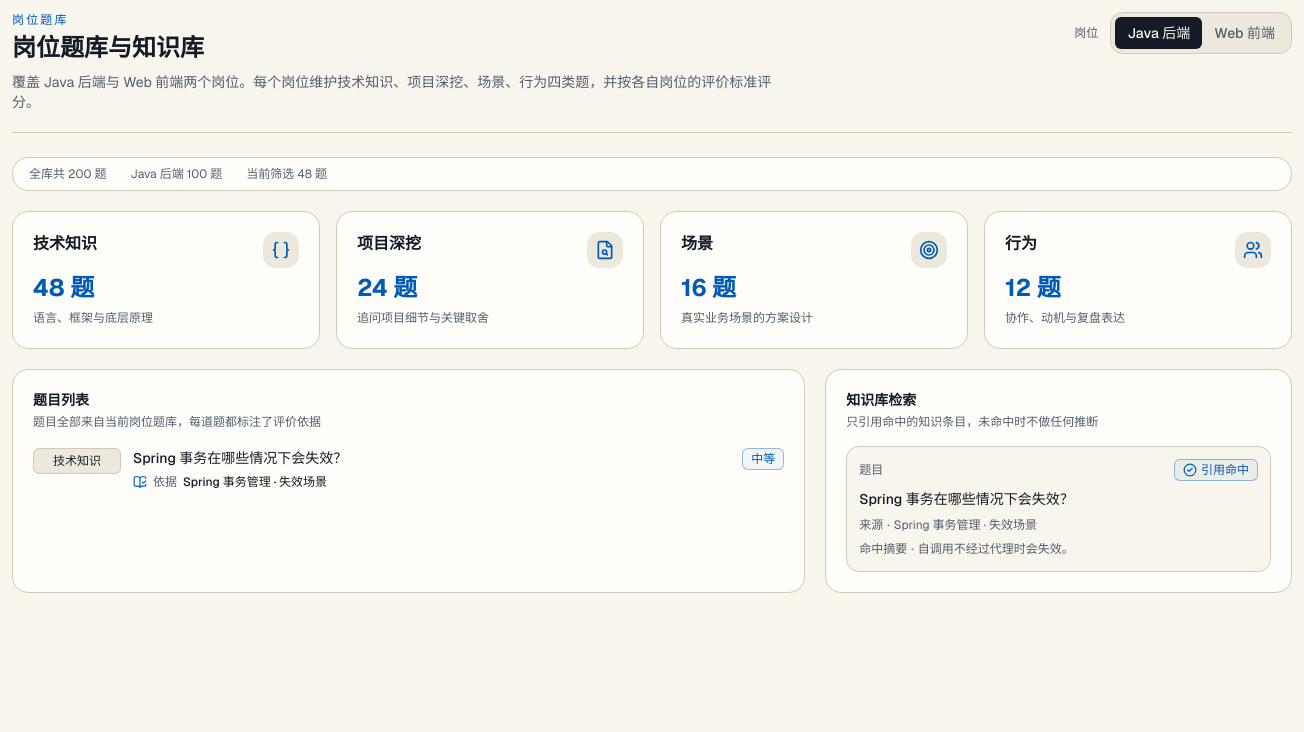
Test: BankScreen › 点题型卡片按 kind 重新请求并显示筛选提示
This screenshot has width=1304, height=732.
Click the button "技术知识 48 题 语言、框架与底层原理".
click(65, 244)  # box [12,211,320,349]
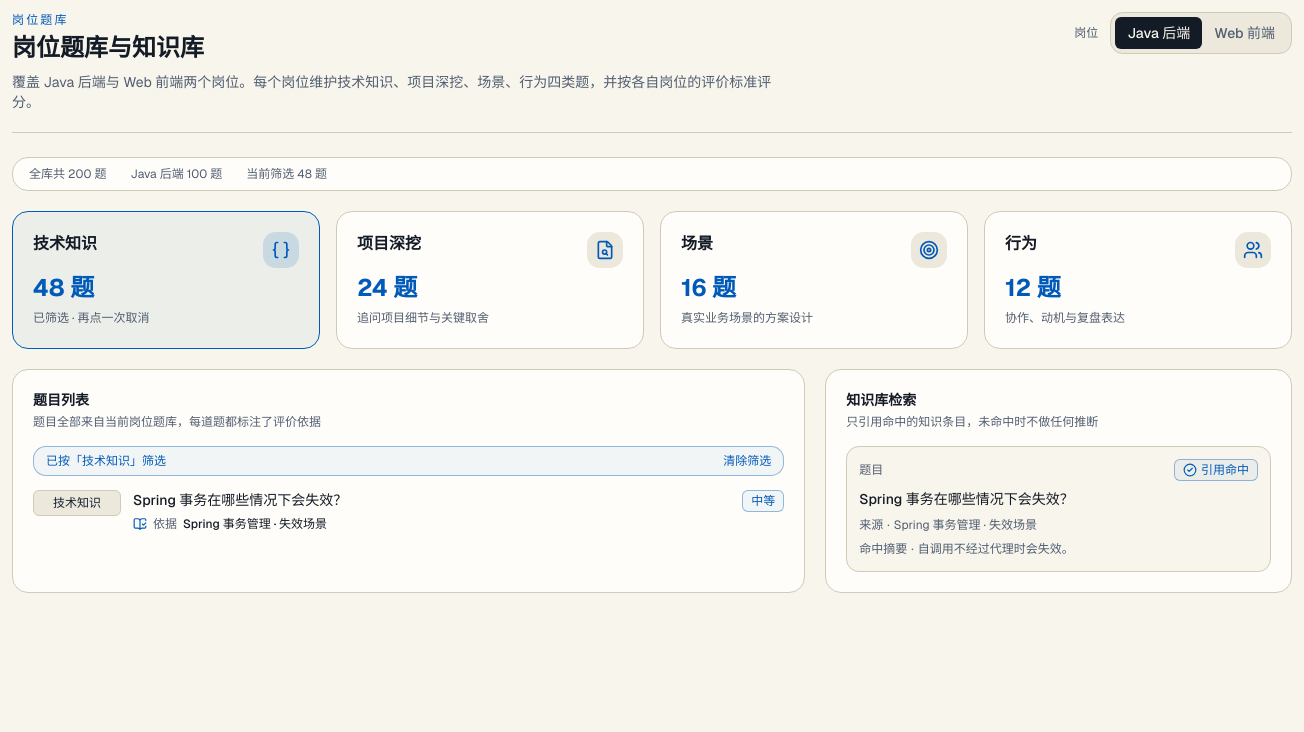
Expected: the text "已按「技术知识」筛选" is shown, [46,453,166,469]
